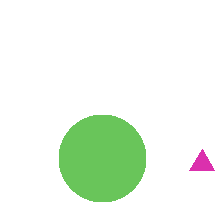circle: (59, 115, 145, 201)
triangle: (189, 149, 214, 170)
